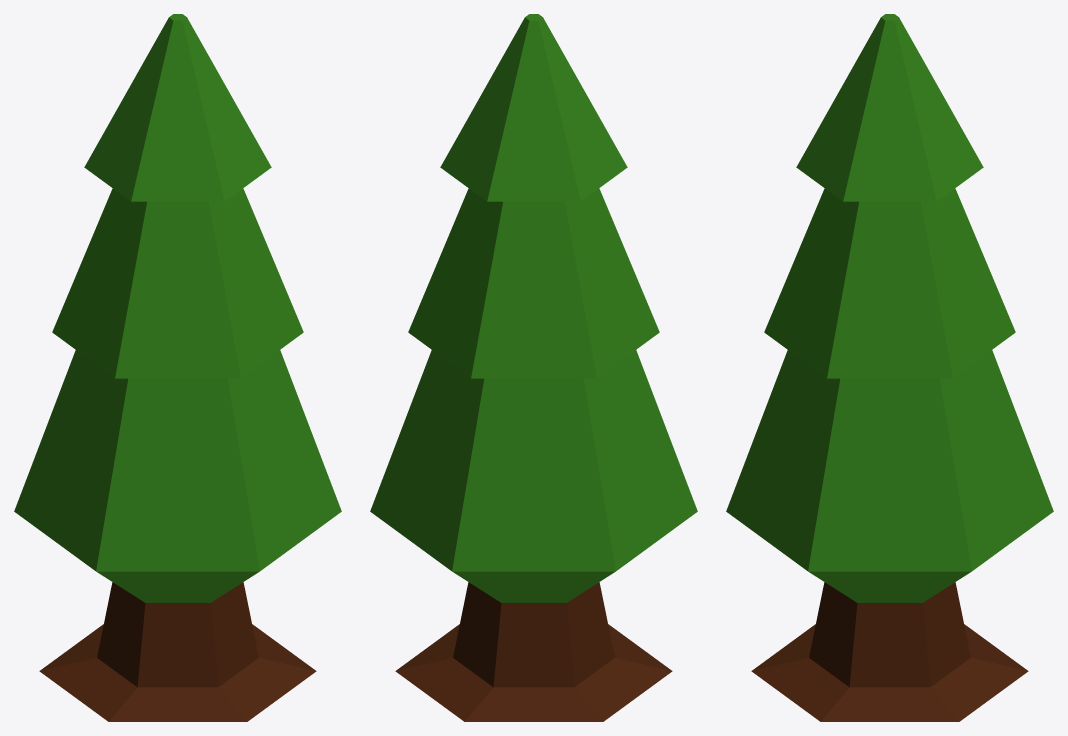
File: tree.fbx
3 renders of one model, left to right at view 1: azimuth 30°, elevation 25°; view 2: azimuth 150°, elevation 25°; view 3: azimuth 270°, elevation 25°, orthographic.
Visible parts, largest first — view 1: Cylinder; view 2: Cylinder; view 3: Cylinder.
Part boxes in pixels (box(x1,y1,x2,y2)): Cylinder: box(14, 14, 341, 721); Cylinder: box(370, 14, 697, 721); Cylinder: box(726, 14, 1053, 721).
Bounding box in the file's own units: 276 × 701 × 318.
